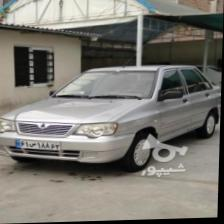plate: (15, 137, 62, 151)
